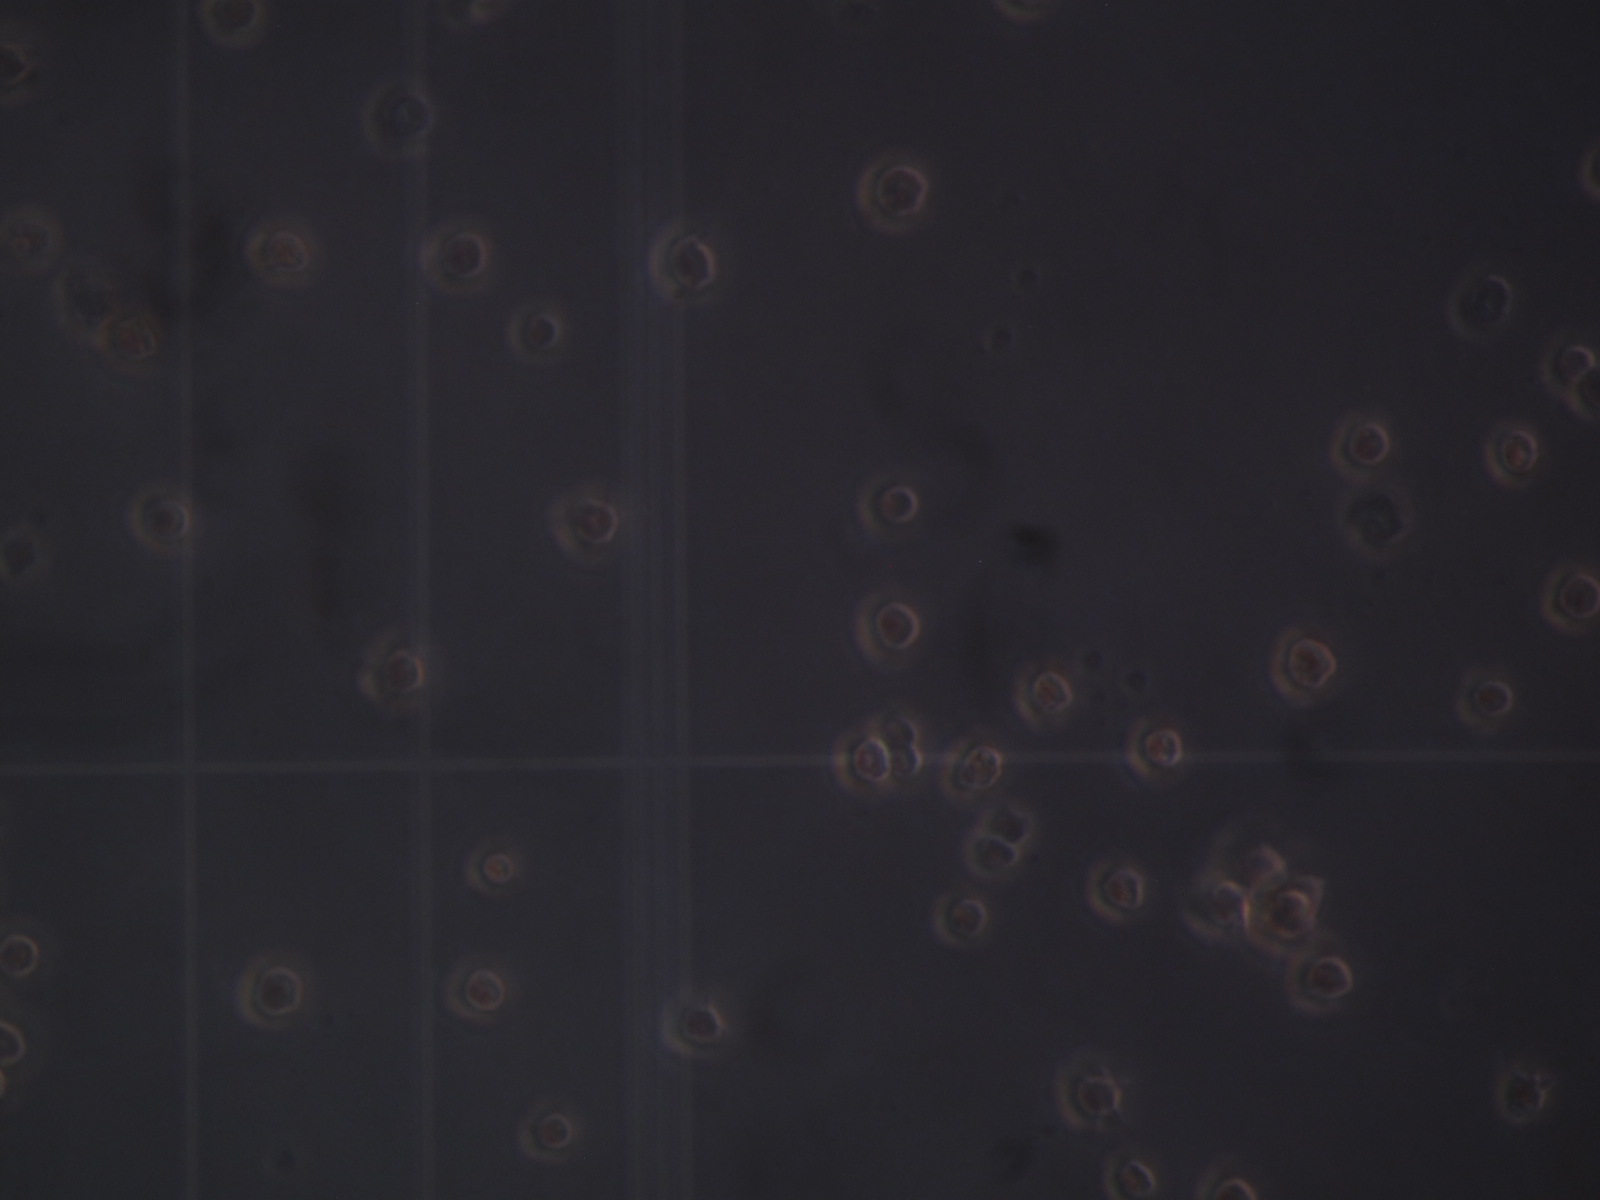hemo: (1335, 479, 1416, 566), (362, 76, 433, 159), (858, 156, 930, 237), (1270, 626, 1337, 711), (1207, 826, 1291, 892), (1173, 877, 1250, 945), (1284, 947, 1354, 1018), (1054, 1063, 1121, 1134), (1251, 884, 1319, 953), (1540, 560, 1600, 637), (238, 961, 301, 1034), (421, 226, 488, 294), (649, 229, 714, 297), (1445, 274, 1514, 337), (546, 494, 617, 555), (858, 596, 918, 667), (1330, 413, 1391, 483), (942, 735, 1003, 804), (1540, 326, 1597, 398), (131, 487, 190, 556), (1015, 659, 1072, 731), (1451, 669, 1514, 734), (360, 642, 423, 705), (1487, 424, 1540, 494), (442, 961, 504, 1021), (831, 731, 889, 795), (1087, 861, 1141, 928), (242, 228, 311, 280), (1126, 717, 1182, 782), (661, 1000, 722, 1058), (98, 313, 156, 373), (857, 475, 918, 531), (8, 209, 63, 268), (1495, 1066, 1548, 1127), (202, 1, 270, 48), (508, 305, 562, 363), (519, 1103, 572, 1162), (935, 887, 986, 945), (963, 828, 1019, 879), (1104, 1150, 1159, 1200), (978, 802, 1036, 845), (467, 845, 513, 896), (1193, 1165, 1259, 1200), (1, 929, 42, 984), (874, 708, 921, 747), (888, 747, 926, 792), (1, 1020, 28, 1071)
